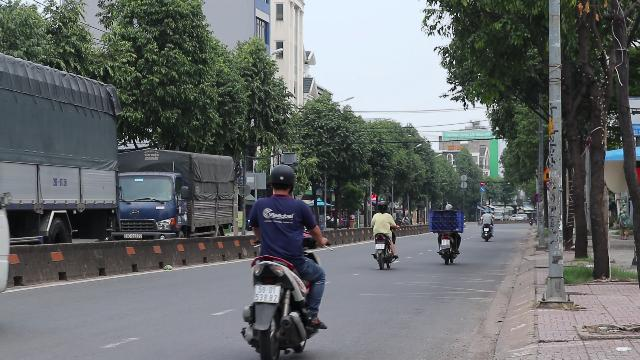helmet: (268, 163, 296, 193)
licenseplate: (252, 285, 280, 303)
motorcyclist: (239, 160, 329, 360)
